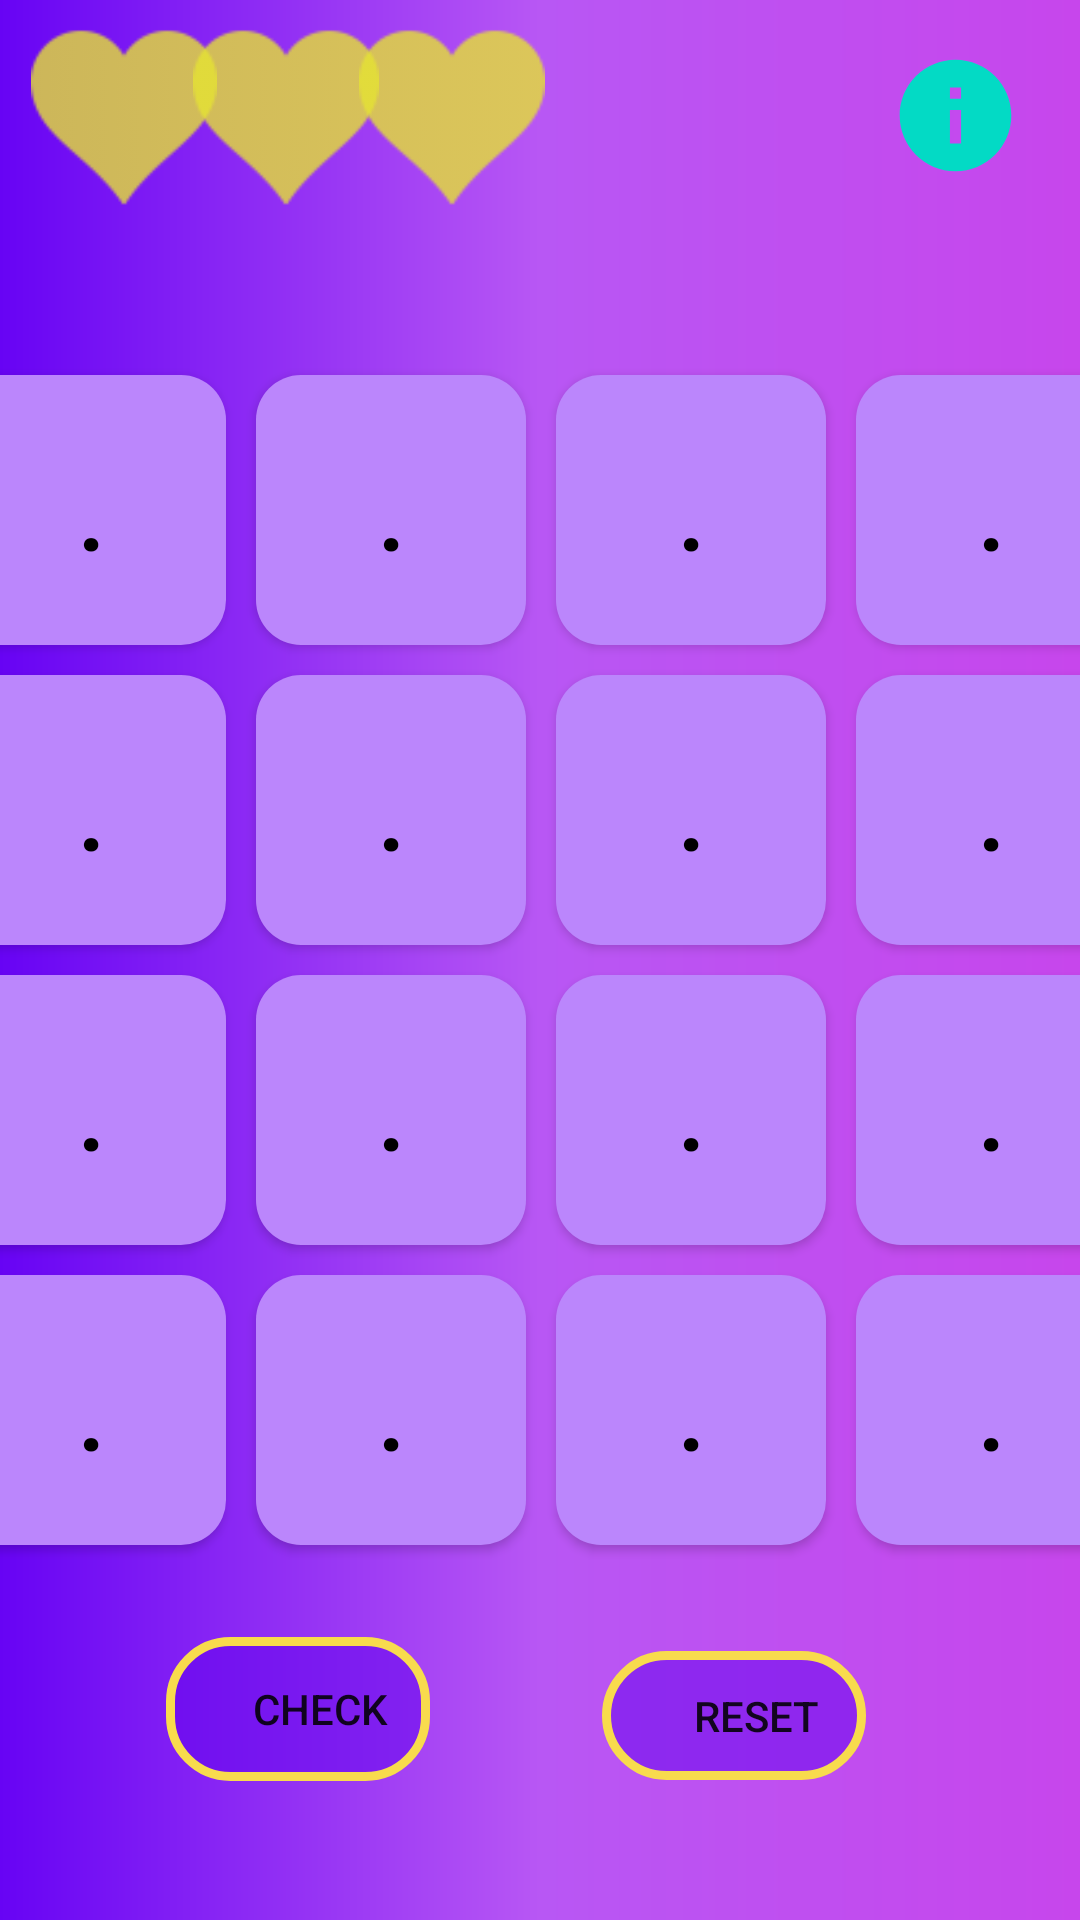

Icon click points for this 1080*1920 phone screenshot, format point (x, y):
info: point (955, 115)
